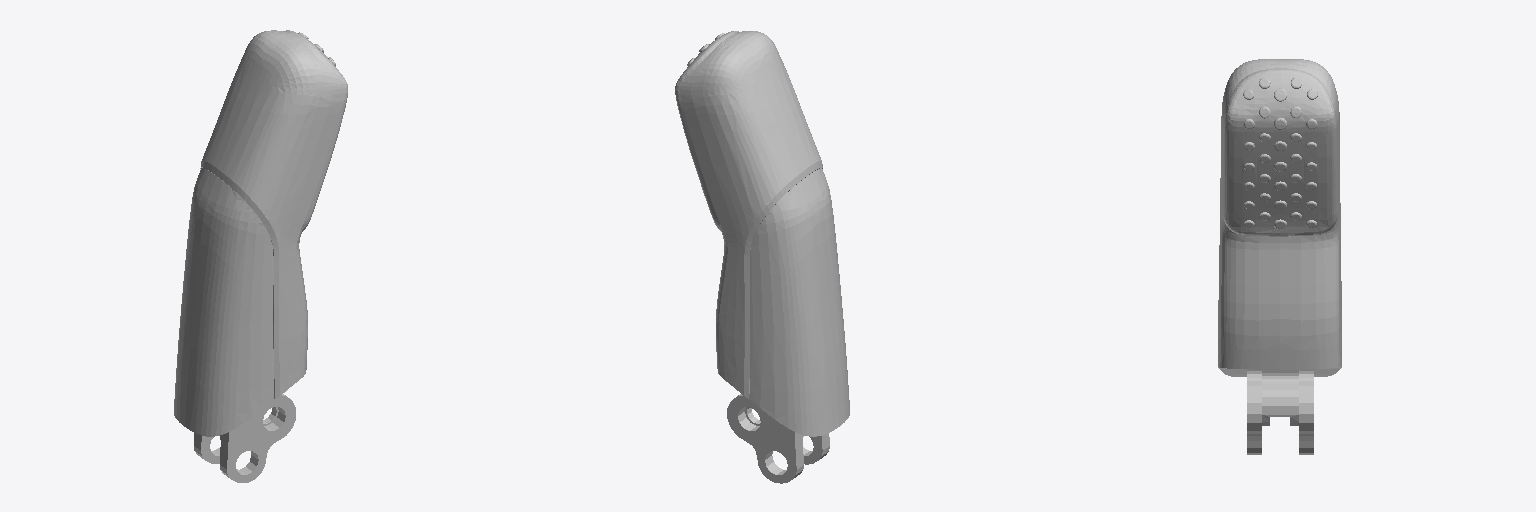
The model's file is left_index_2_visuals.obj.
3 renders of one model, left to right at view 1: azimuth 30°, elevation 25°; view 2: azimuth 150°, elevation 25°; view 3: azimuth 270°, elevation 25°, orthographic.
Bounding box in the file's own units: 0.0223 × 0.0622 × 0.0168.